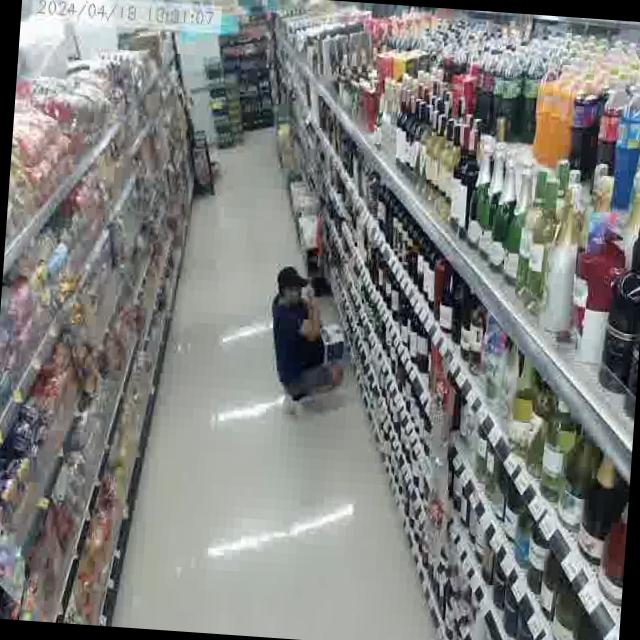shoplifting: (249, 253, 367, 430)
